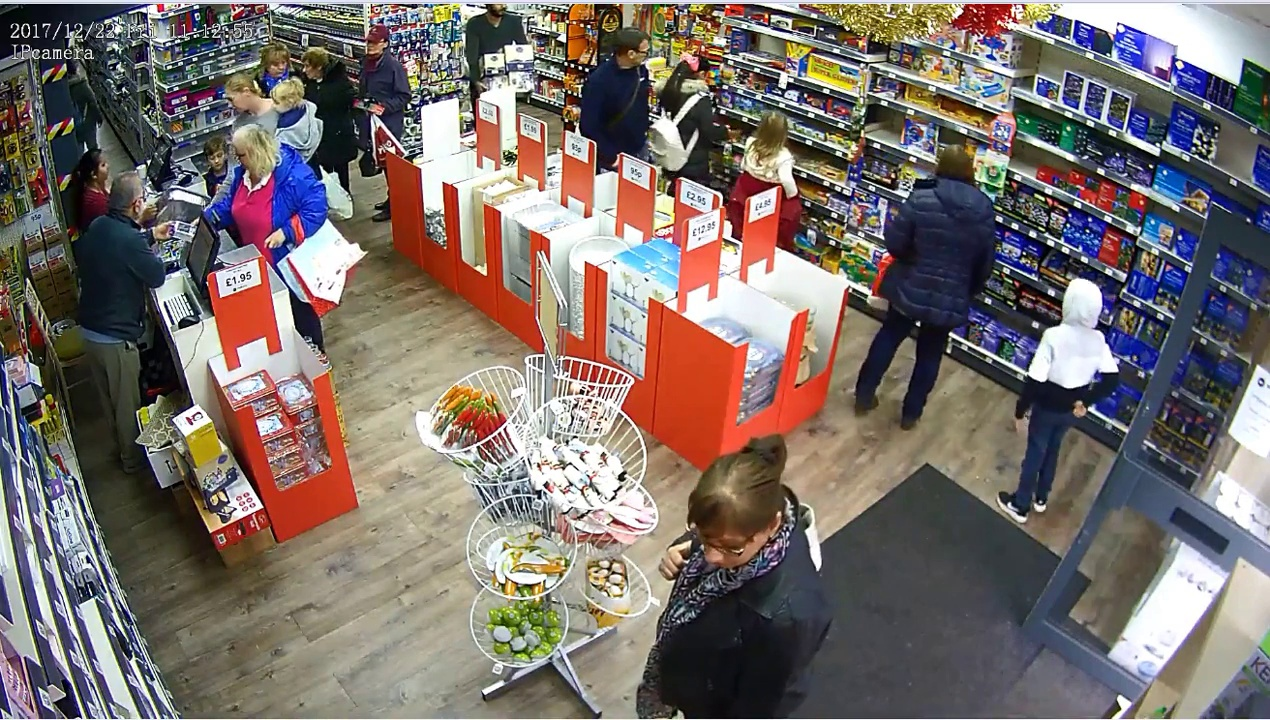face: (224, 83, 246, 117), (86, 159, 115, 181), (265, 56, 288, 77)
